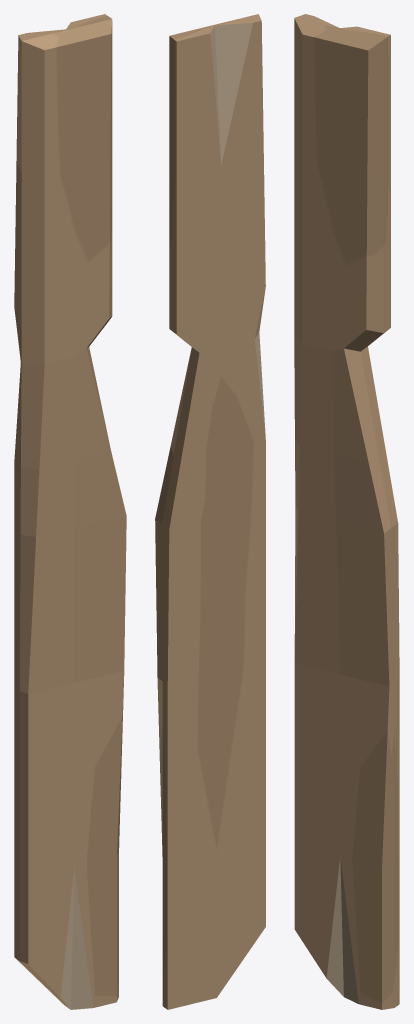
The model's file is SM_Wooden_Plank_C.gltf.
The picture shows the model from 3 angles, left to right: view 1: azimuth 30°, elevation 25°; view 2: azimuth 210°, elevation 25°; view 3: azimuth 330°, elevation 25°; orthographic projection.
Visible parts, largest first — view 1: SM_Wooden_Plank_C; view 2: SM_Wooden_Plank_C; view 3: SM_Wooden_Plank_C.
Part boxes in pixels (left/top/right/bottom): SM_Wooden_Plank_C: left=14, top=14, right=126, bottom=1009; SM_Wooden_Plank_C: left=155, top=14, right=265, bottom=1009; SM_Wooden_Plank_C: left=294, top=14, right=399, bottom=1009.
Size of the model in its own units: 0.2107 by 1.98 by 0.0539.
Materials: 1 (1 with a texture image).
